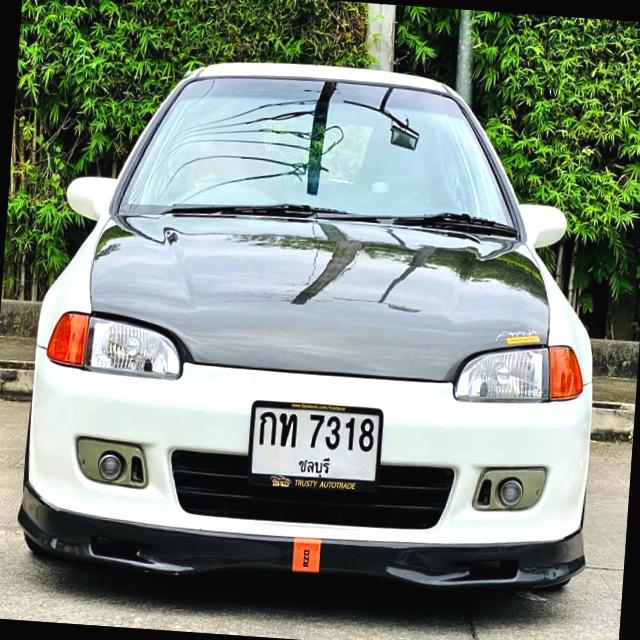license_plate: (242, 396, 385, 496)
